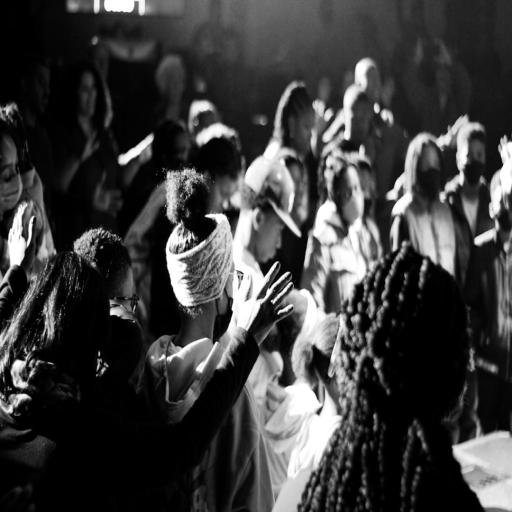face: (0, 134, 23, 214), (417, 146, 442, 198), (260, 212, 284, 264), (461, 137, 485, 186), (342, 174, 366, 222), (295, 112, 314, 157), (81, 76, 98, 120)
